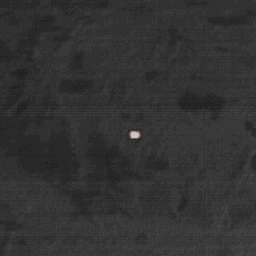Target: (127, 129, 141, 138)
